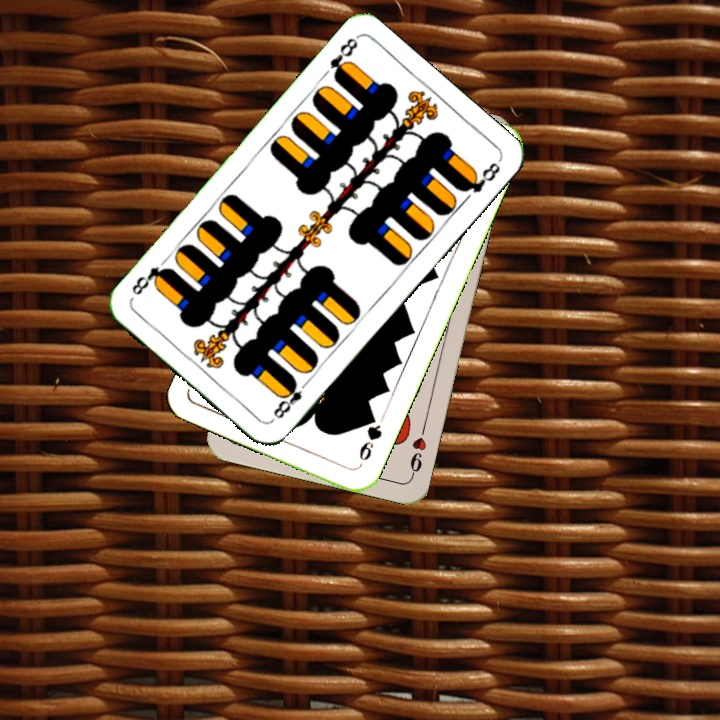E8: (269, 375, 313, 422), (325, 33, 361, 84)
G9: (354, 410, 385, 463)
H9: (405, 421, 429, 480)
